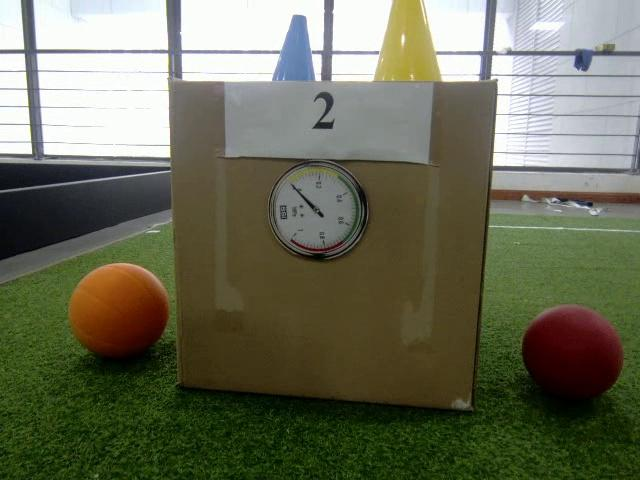2: (312, 89, 336, 134)
Dashboard: (266, 158, 372, 264)
blue_barrel: (270, 15, 319, 83)
orange_ball: (68, 262, 170, 359)
red_ball: (521, 304, 623, 402)
ssi: (279, 204, 288, 220)
yellow_barrel: (370, 0, 446, 83)
